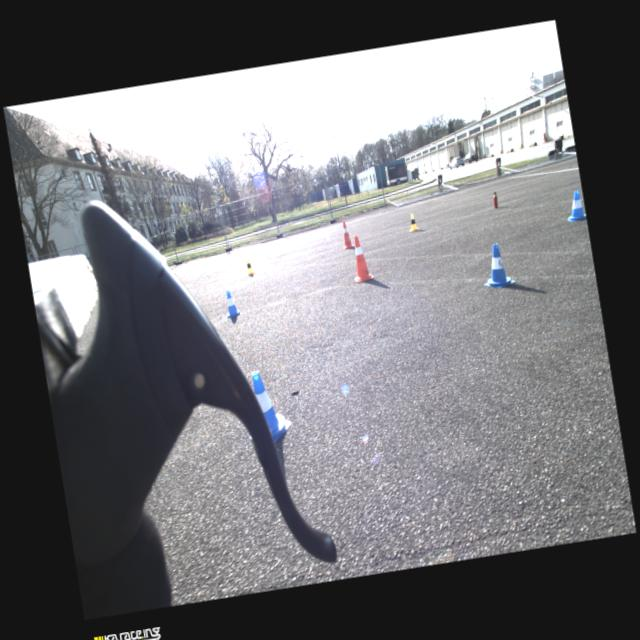blue_cone: (249, 366, 295, 446), (478, 242, 516, 292), (563, 189, 587, 223), (223, 288, 241, 318)
large_orange_cone: (347, 232, 374, 284), (338, 219, 355, 250)
yellow_cone: (406, 212, 420, 232), (246, 258, 256, 275)
